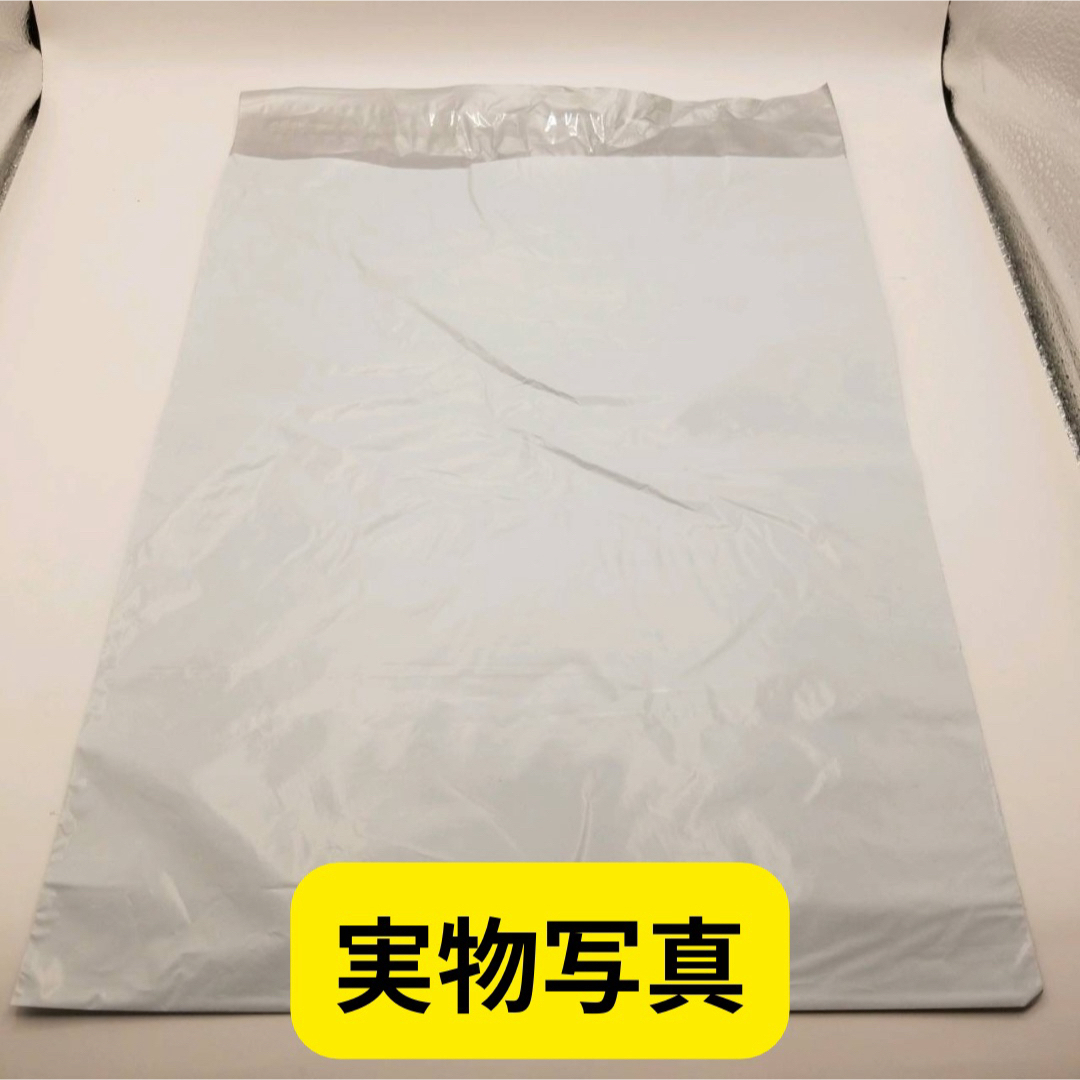塑料袋: (26, 87, 1037, 1012)
